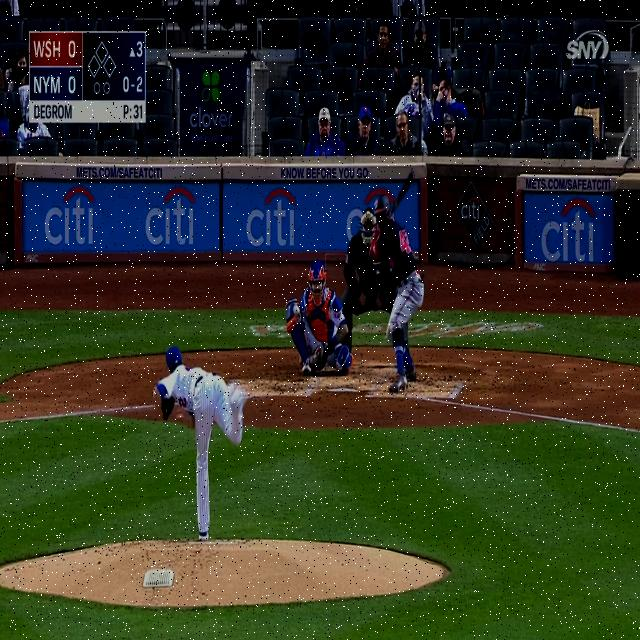baseball: (293, 305, 300, 315)
